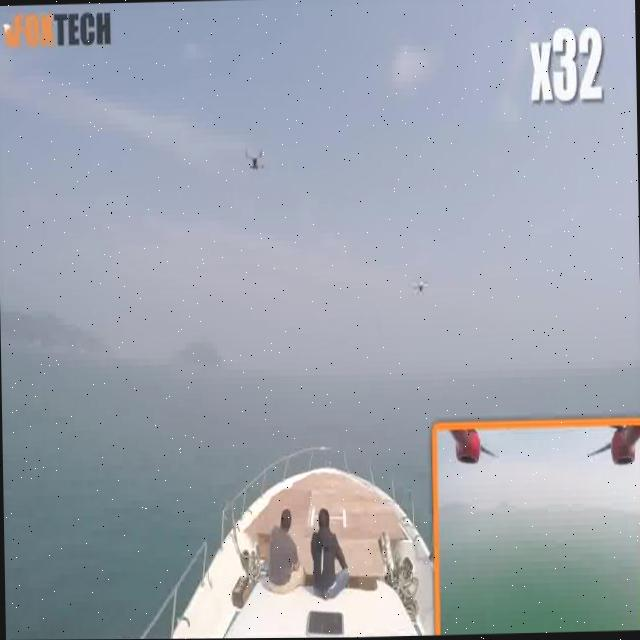drone: (234, 139, 274, 193)
